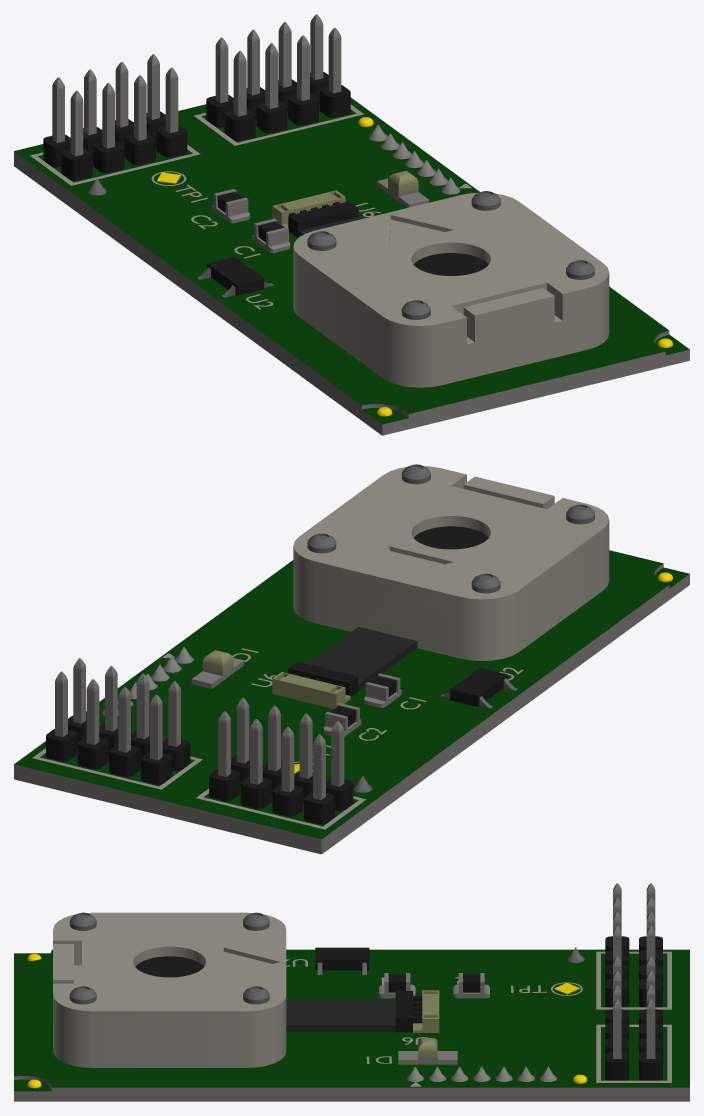
The model's file is BMV080.fbx.
3 renders of one model, top to bottom at view 1: azimuth 30°, elevation 25°; view 2: azimuth 150°, elevation 25°; view 3: azimuth 270°, elevation 25°, orthographic. The views are drawn at different scales.
Parts seen in each view (by area): view 1: Text.010; view 2: Text.010; view 3: Text.010.
Boxes of the visible parts, x1=… form: Text.010: x1=14, y1=14, x2=689, y2=435; Text.010: x1=14, y1=464, x2=689, y2=854; Text.010: x1=14, y1=883, x2=689, y2=1101.
Bounding box in the file's own units: 105 × 32.07 × 217.
